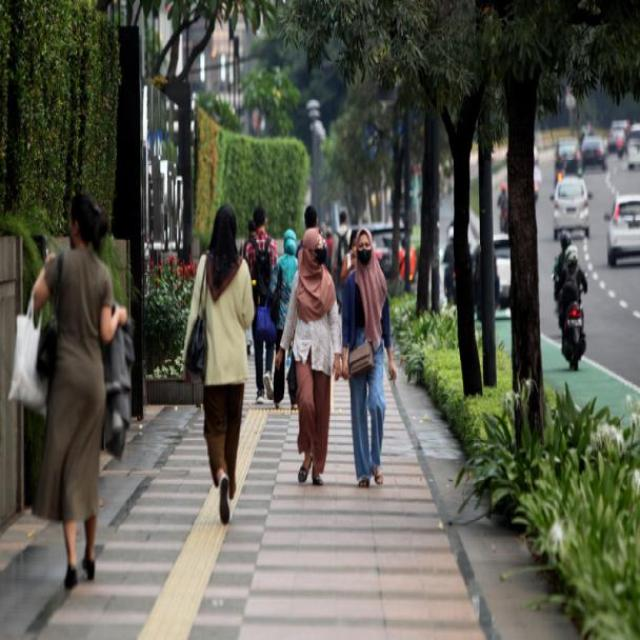person ahead at: (13, 192, 141, 595)
tree ahead at: (490, 83, 560, 457), (441, 120, 491, 402)
